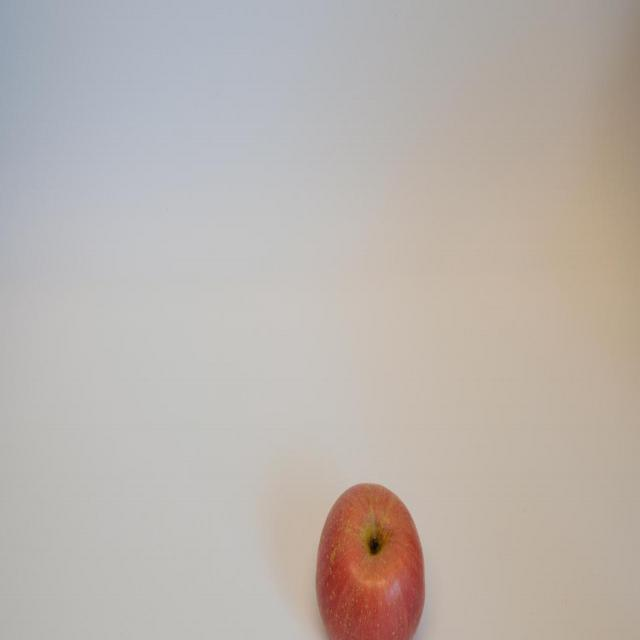apple: (321, 478, 433, 638)
